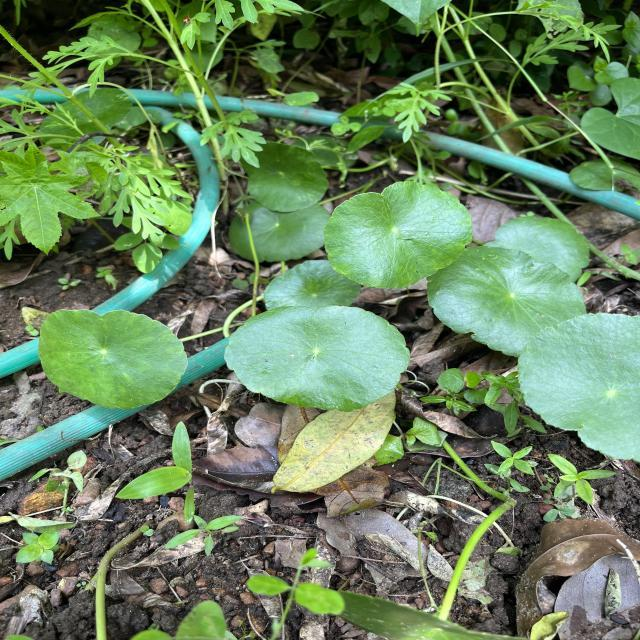Bacopa monnieri: (221, 303, 412, 413), (425, 244, 588, 360), (516, 312, 640, 464), (322, 179, 476, 290), (37, 307, 190, 411), (481, 214, 592, 284), (262, 258, 362, 312)
